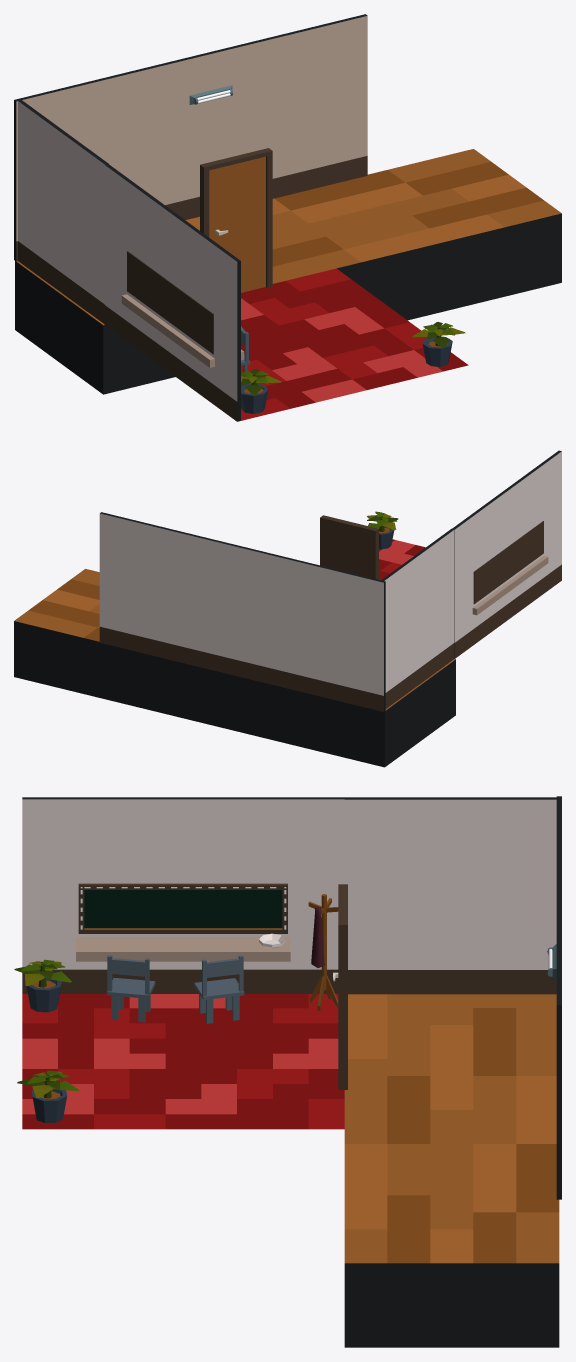
File: camarim.fbx
3 renders of one model, top to bottom at view 1: azimuth 30°, elevation 25°; view 2: azimuth 150°, elevation 25°; view 3: azimuth 270°, elevation 25°, orthographic. The views are drawn at different scales.
Visible parts, largest first — view 1: floor.001, wall.006, Plane.003, wall.008, wall.007, corridor_door_2.002, Cube.010, Cube.009, plant.001, plant; view 2: wall.006, floor.001, wall.008, wall.007, corridor_door_2.002, Cube.010, Plane.003, Cube.009, plant.001; view 3: floor.001, wall.008, wall.007, Plane.003, Cube.011, Cube.009, Cube.010, wall.006, Cube.012, Cube.008, corridor_door_2.002, plant (+2 smaller).
Boxes of the visible parts, x1,y1,x2,y2 form: floor.001: [15, 149, 561, 394]; wall.006: [14, 14, 367, 261]; Plane.003: [241, 268, 468, 420]; wall.008: [104, 164, 240, 421]; wall.007: [18, 100, 108, 323]; corridor_door_2.002: [200, 148, 272, 292]; Cube.010: [127, 251, 213, 354]; Cube.009: [121, 294, 244, 367]; plant.001: [412, 322, 465, 366]; plant: [241, 369, 281, 413]; wall.006: [99, 512, 385, 711]; floor.001: [14, 569, 455, 767]; wall.008: [452, 450, 561, 658]; wall.007: [381, 528, 454, 708]; corridor_door_2.002: [320, 515, 378, 579]; Cube.010: [473, 521, 543, 604]; Plane.003: [379, 539, 425, 580]; Cube.009: [472, 555, 548, 615]; plant.001: [367, 511, 398, 549]; floor.001: [344, 994, 559, 1347]; wall.008: [22, 797, 344, 993]; wall.007: [344, 797, 556, 994]; Plane.003: [22, 994, 344, 1129]; Cube.011: [84, 890, 282, 929]; Cube.009: [76, 937, 290, 961]; Cube.010: [78, 883, 287, 933]; wall.006: [556, 796, 561, 1199]; Cube.012: [194, 955, 244, 1023]; Cube.008: [107, 955, 155, 1022]; corridor_door_2.002: [333, 884, 347, 1089]; plant: [14, 959, 71, 1012].
Size of the model in its own units: 1210 by 573 by 1021.
